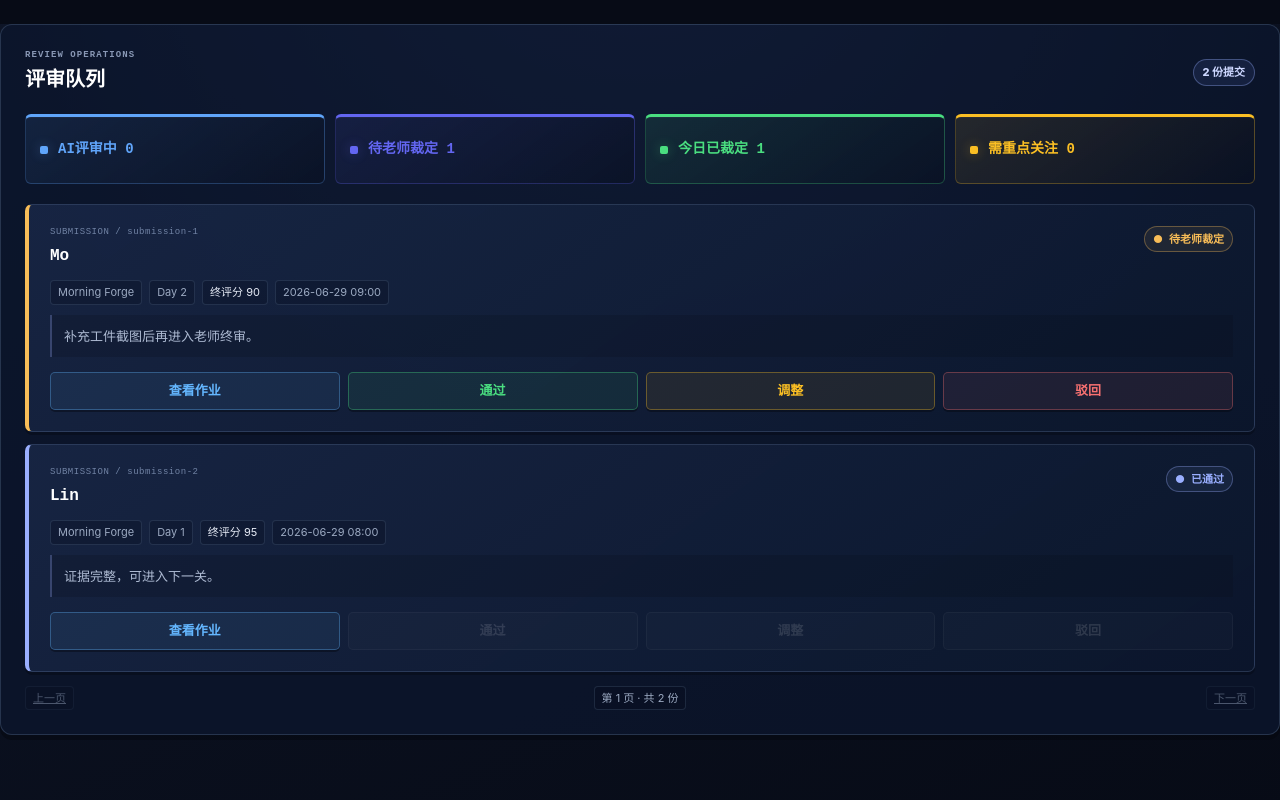
Test case: ReviewQueue › recomputes summary and item state when the teacher adjusts a pending review
Check: the text "待老师裁定" is shown, box [1169, 232, 1224, 246]
Check: the list item "Mo" is shown, box [50, 247, 69, 265]
Click the 1st button "调整" at (790, 391), box [646, 372, 935, 410]
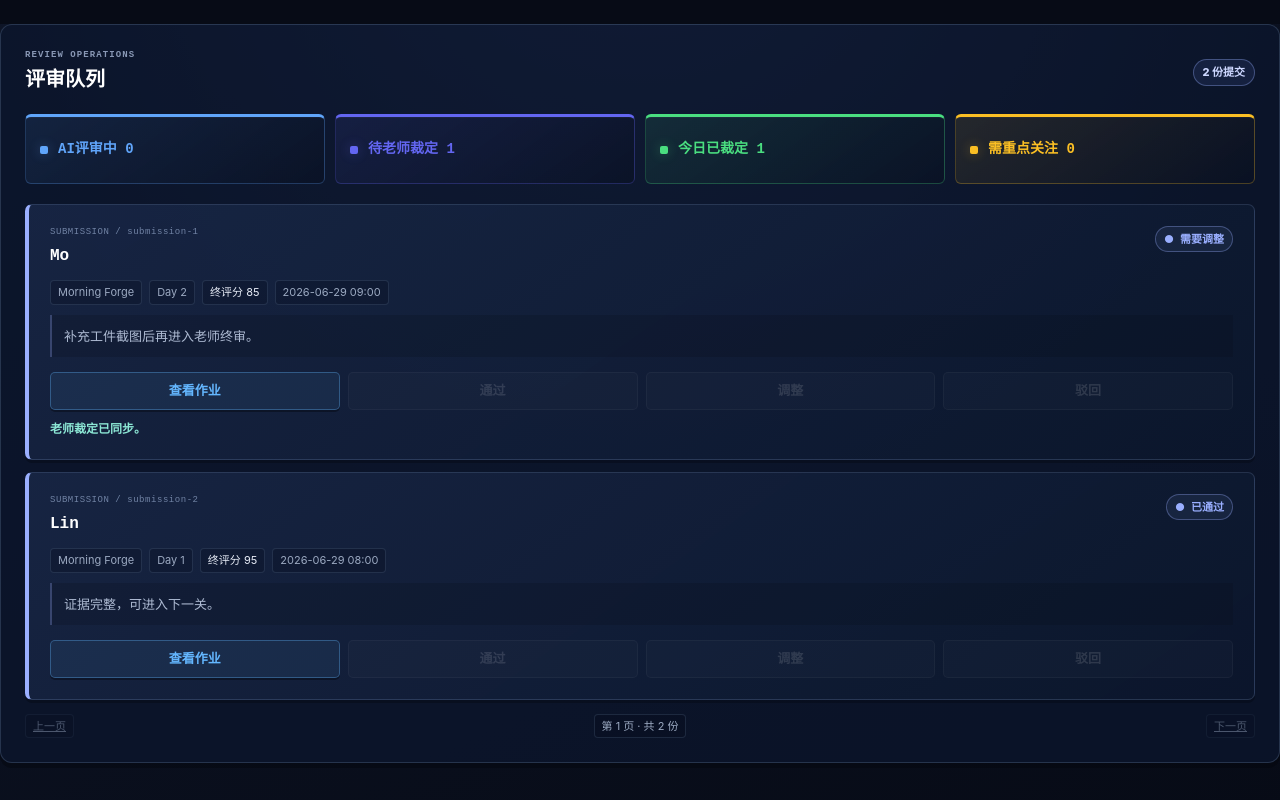
Check: the text "需要调整" is shown, box [1180, 232, 1224, 246]
Check: the text "终评分 85" is shown, box [202, 280, 268, 304]
